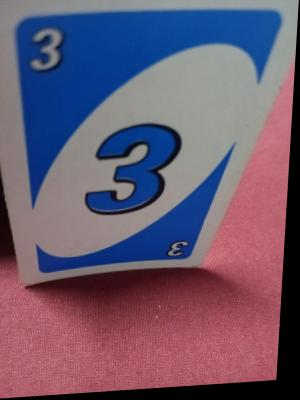blue: (20, 9, 221, 270)
num_3: (27, 23, 73, 76), (165, 238, 199, 265)
